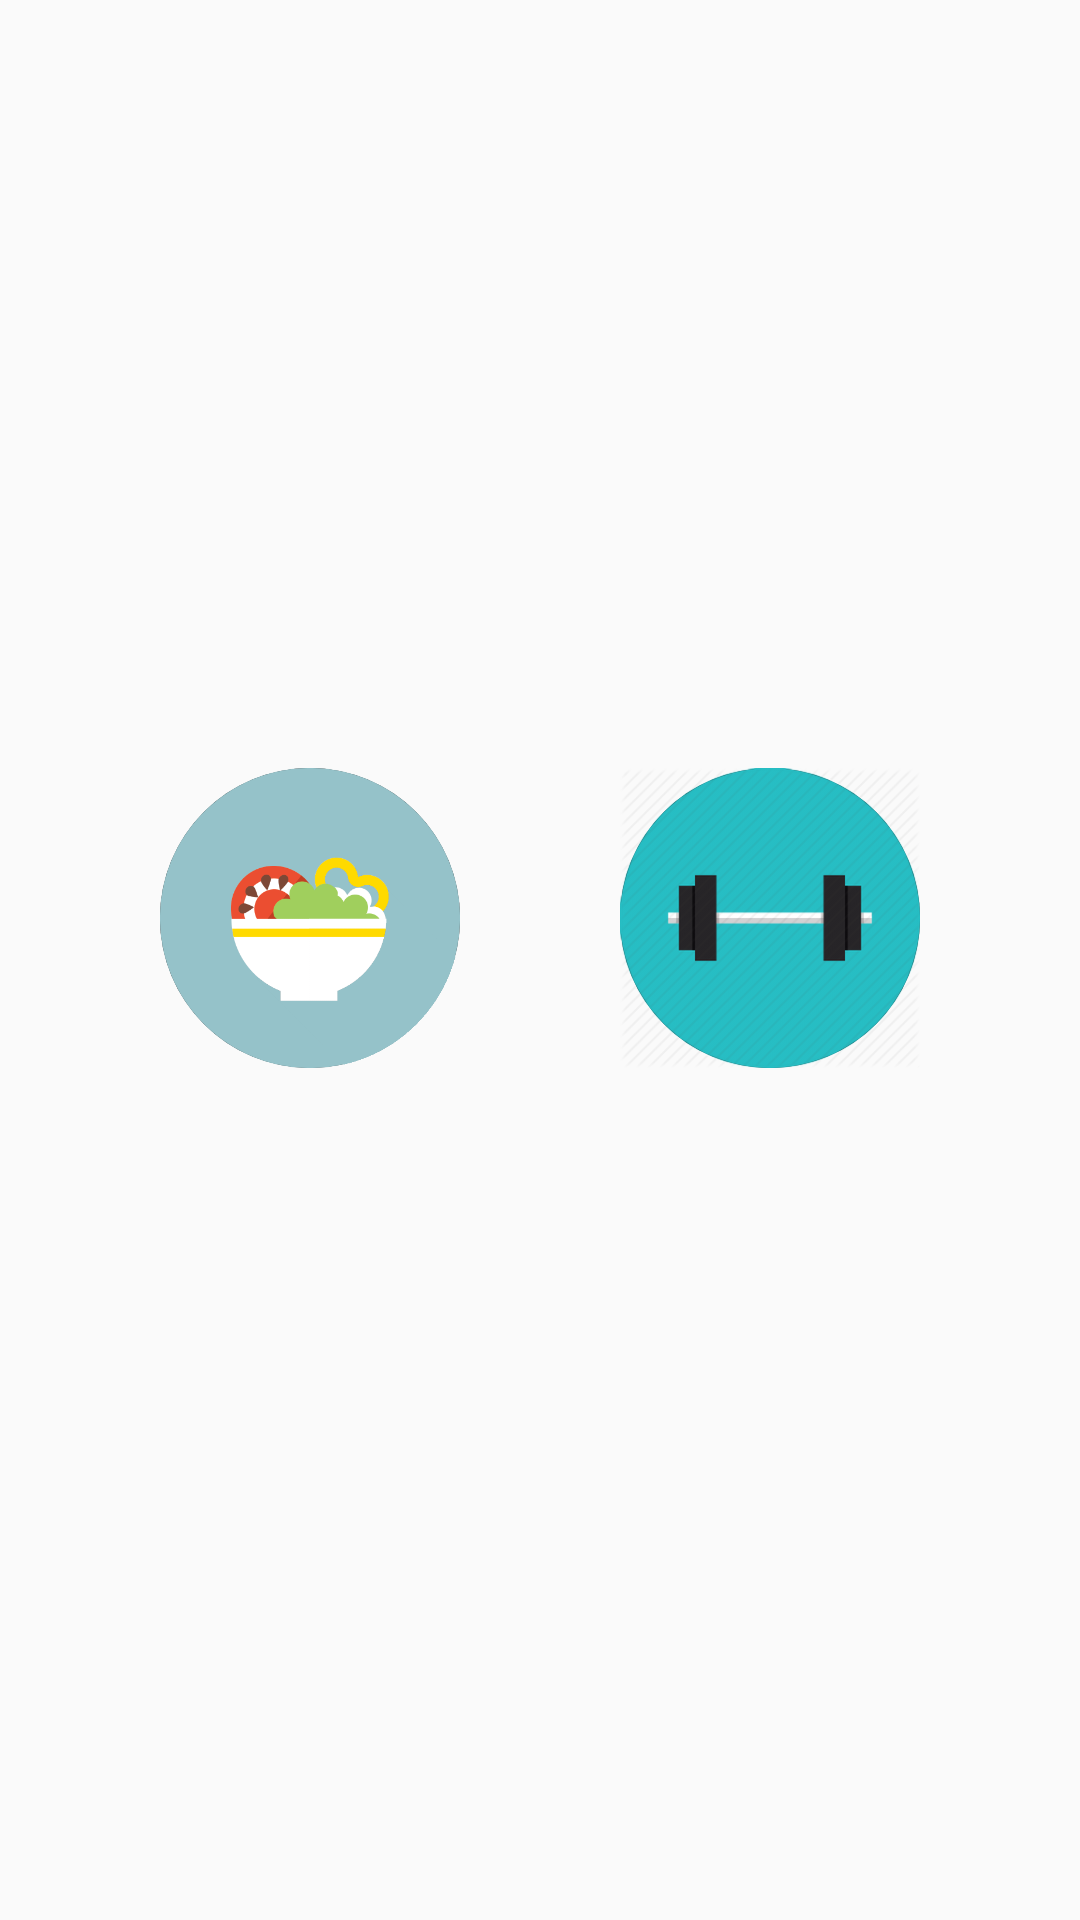

Screen size 1080px x 1920px. Icon name, then its center in pixels as point (x, y):
food: point (310, 918)
workout: point (770, 918)
